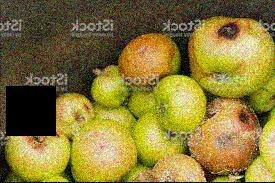rotten apple: (180, 13, 274, 92), (192, 94, 262, 169), (0, 115, 71, 178), (117, 33, 185, 86), (41, 90, 93, 131), (150, 153, 199, 181)
